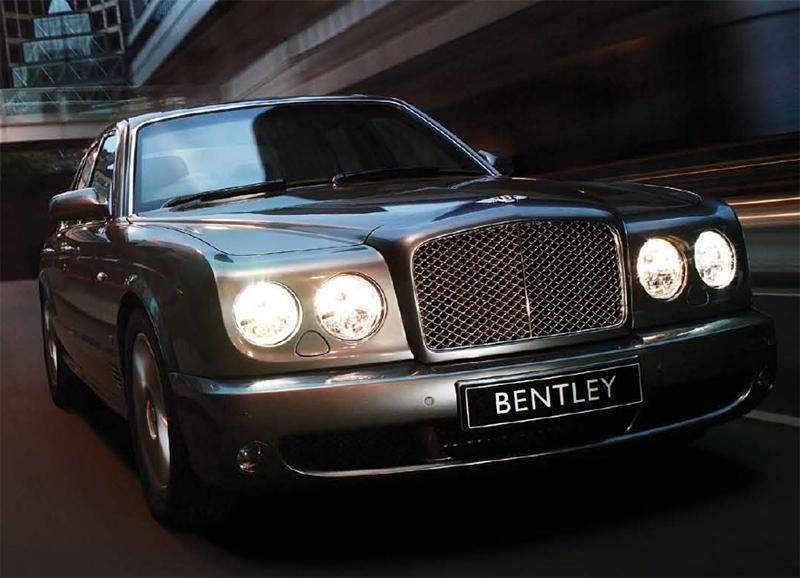Car: (18, 71, 779, 568)
